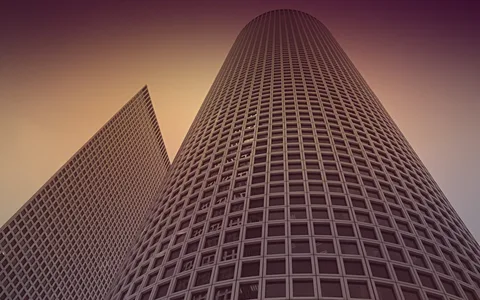high_rise_building: (228, 8, 384, 292)
